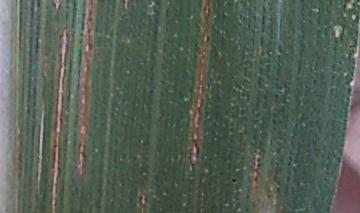tarspot: (228, 174, 239, 187)
